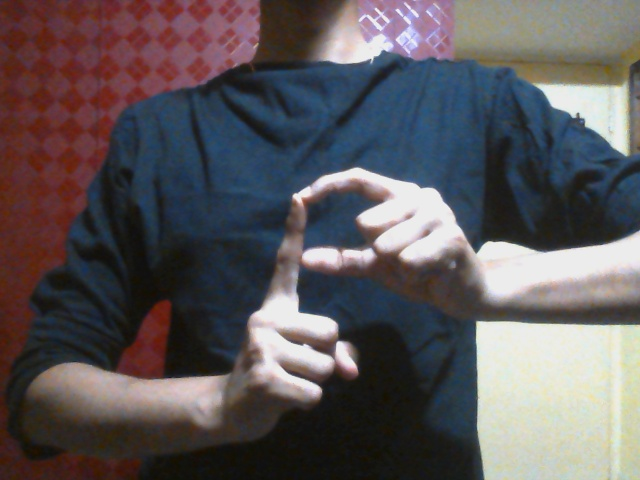P: (229, 164, 449, 440)
